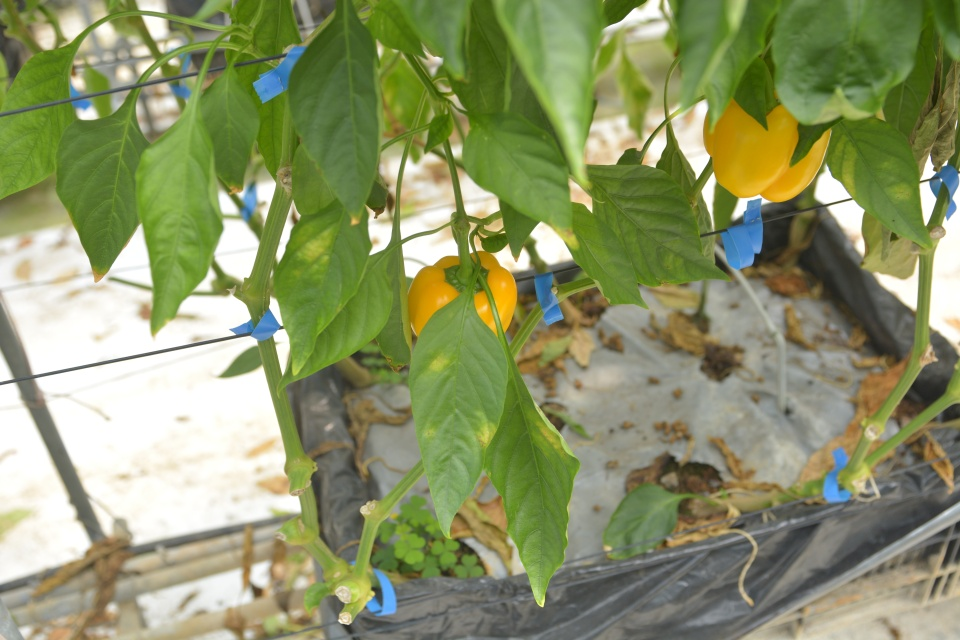fruit: (701, 90, 832, 203), (405, 249, 519, 344)
pedicle: (442, 261, 493, 295)
